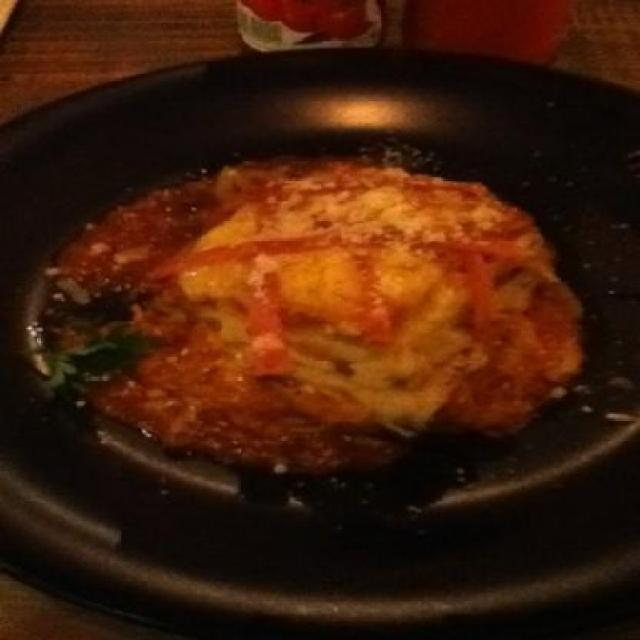Lasagna: (99, 165, 618, 438)
